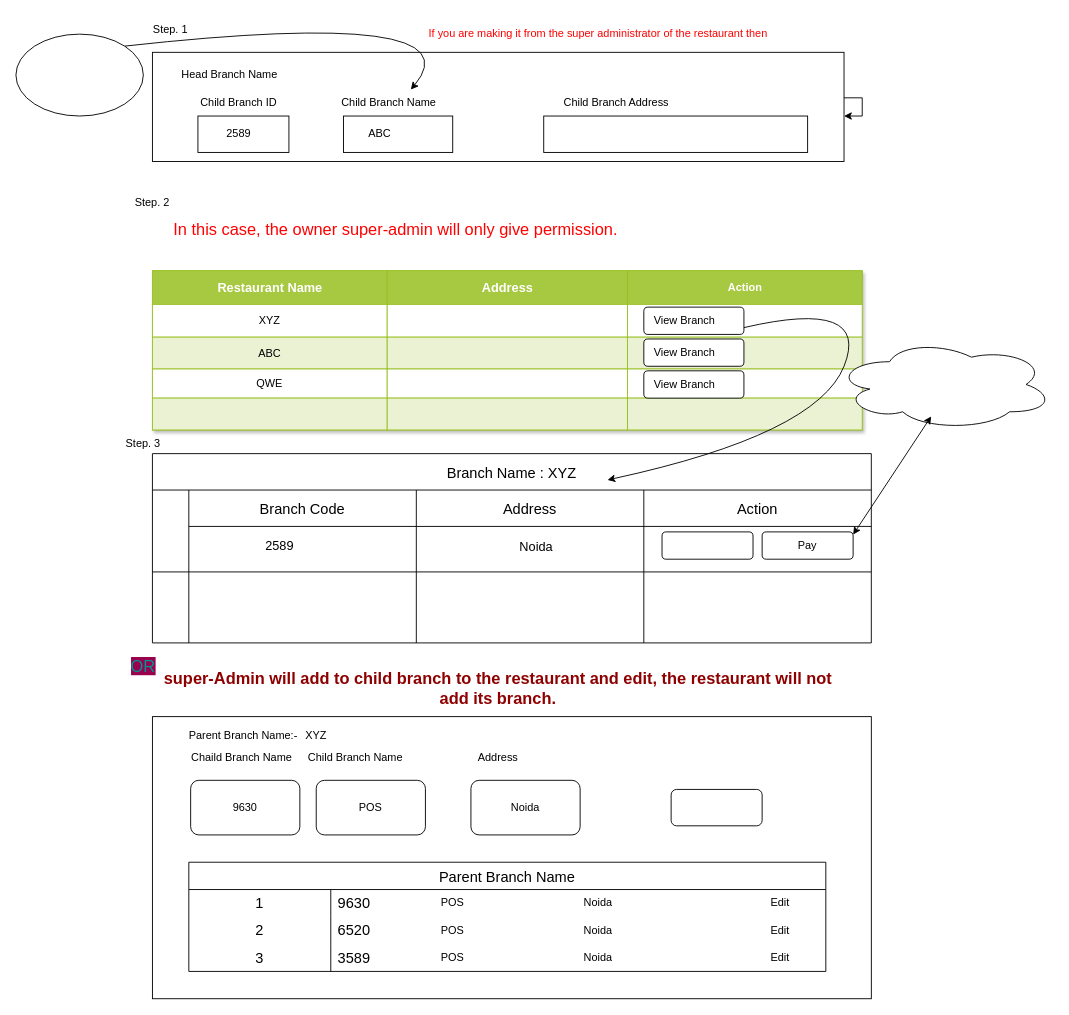
Image size: 1069x1015. Some labels were removed from this diagram. The shapes that lost their labels are listed below. From the top down, each one's centre as x and y in pixels, then its label:
point 79,74: Child Branch Name different or Same with Head Branch
point 943,384: If the payment is successful, the approval process is activated
point 707,545: Approval
point 716,807: Submit
